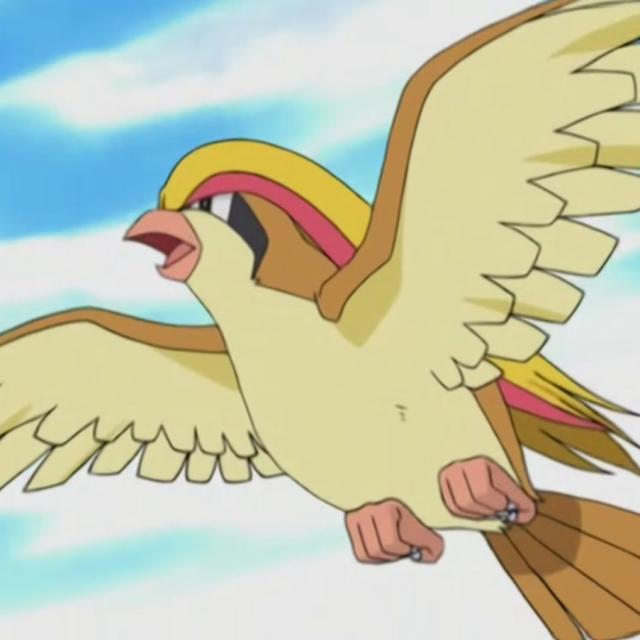Pidgeot: (94, 120, 640, 595)
